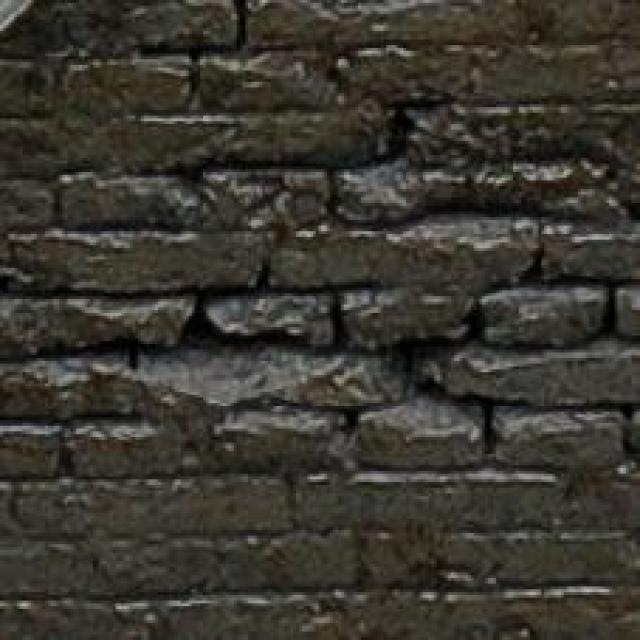Crack: (0, 57, 640, 549)
